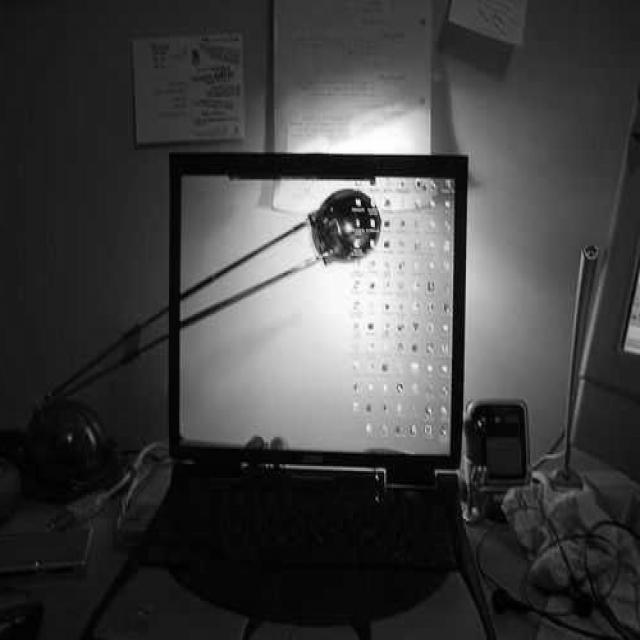laptop: (172, 161, 464, 640)
